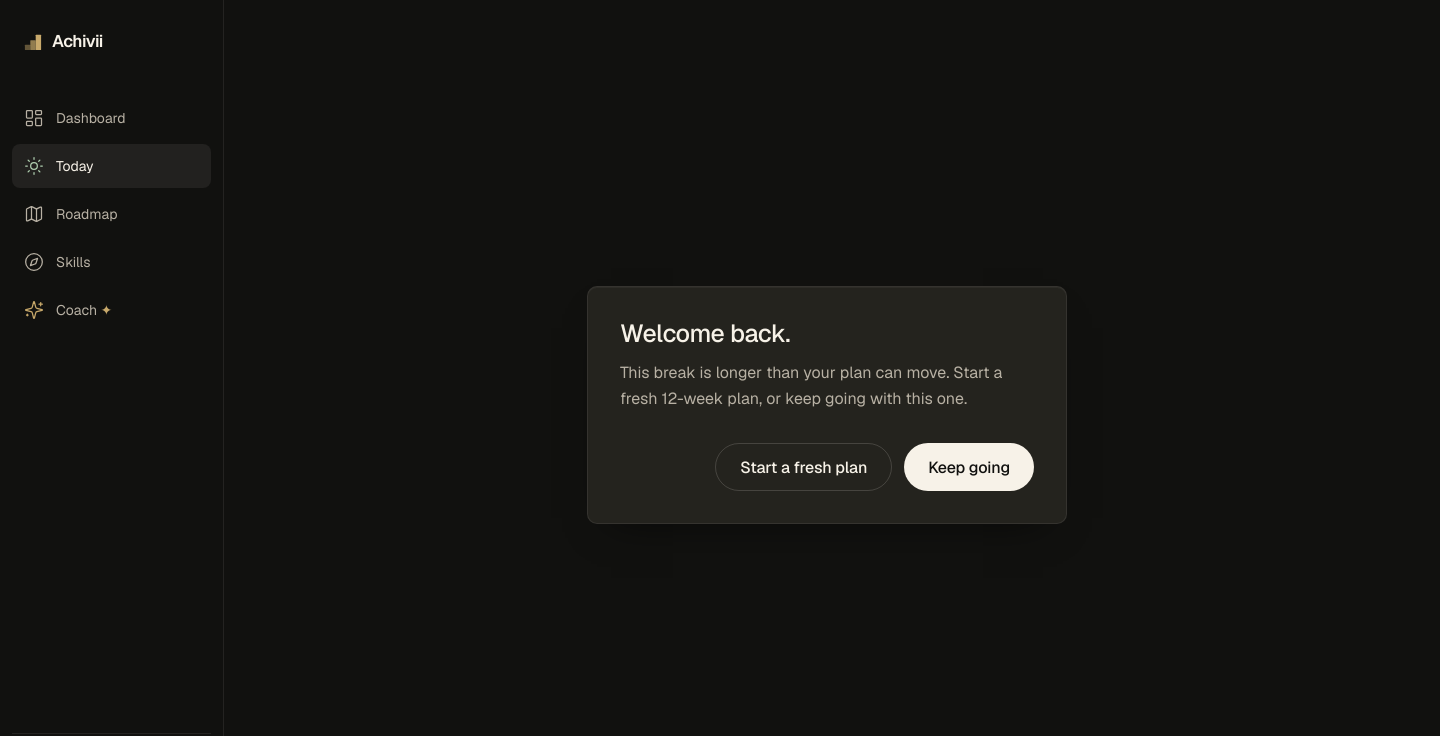
the choice card past the limit (WU-38, WU-40) › "Keep going" closes with the choice, then reconciles and fetches; Today shows the new week and the line once
This screenshot has width=1440, height=736.
Click the button "Keep going".
click(969, 468)  # box [904,444,1034,492]
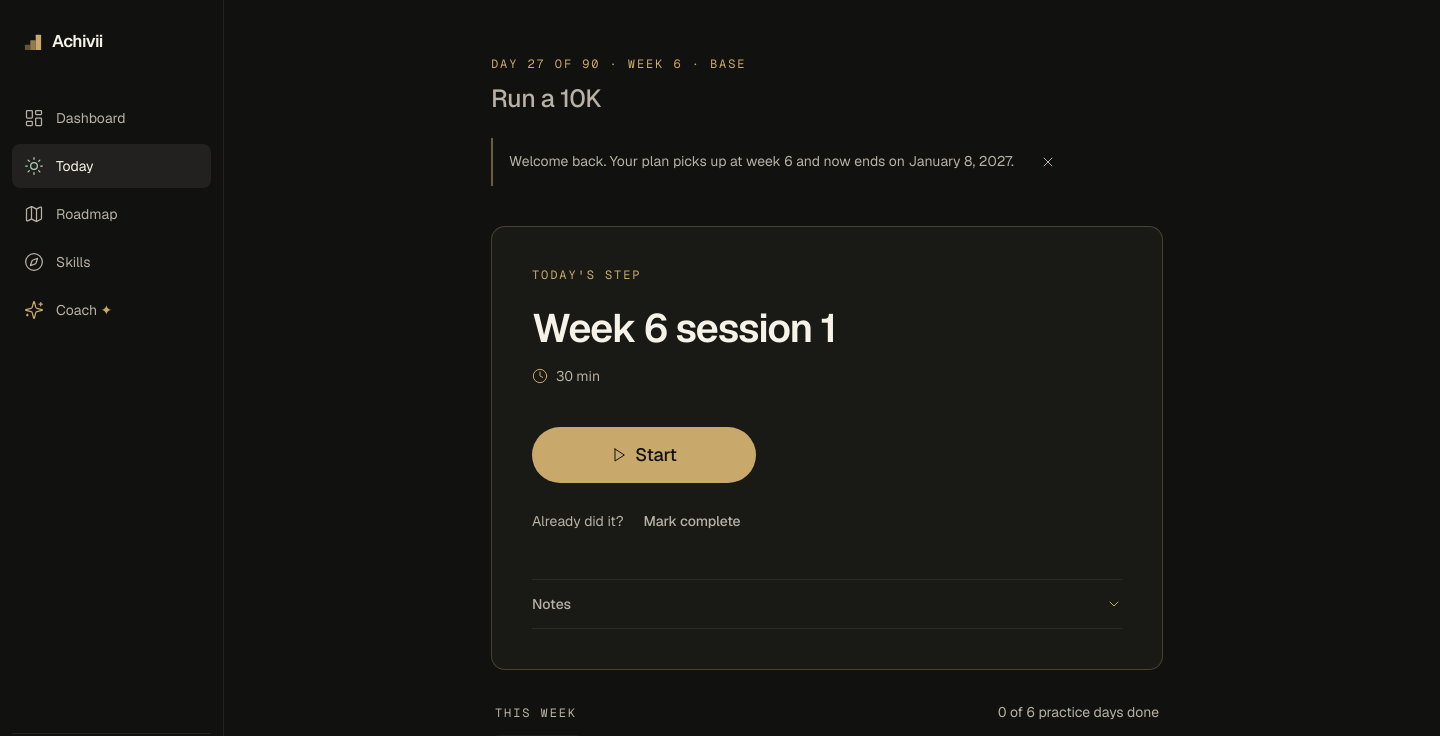
expect the heading "Run a 10K" is shown: met, box [491,82,601,114]
expect the text "Welcome back. Your plan picks up at week 6 and now ends on January 8, 2027." is shown: met, box [509,151,1014,172]
